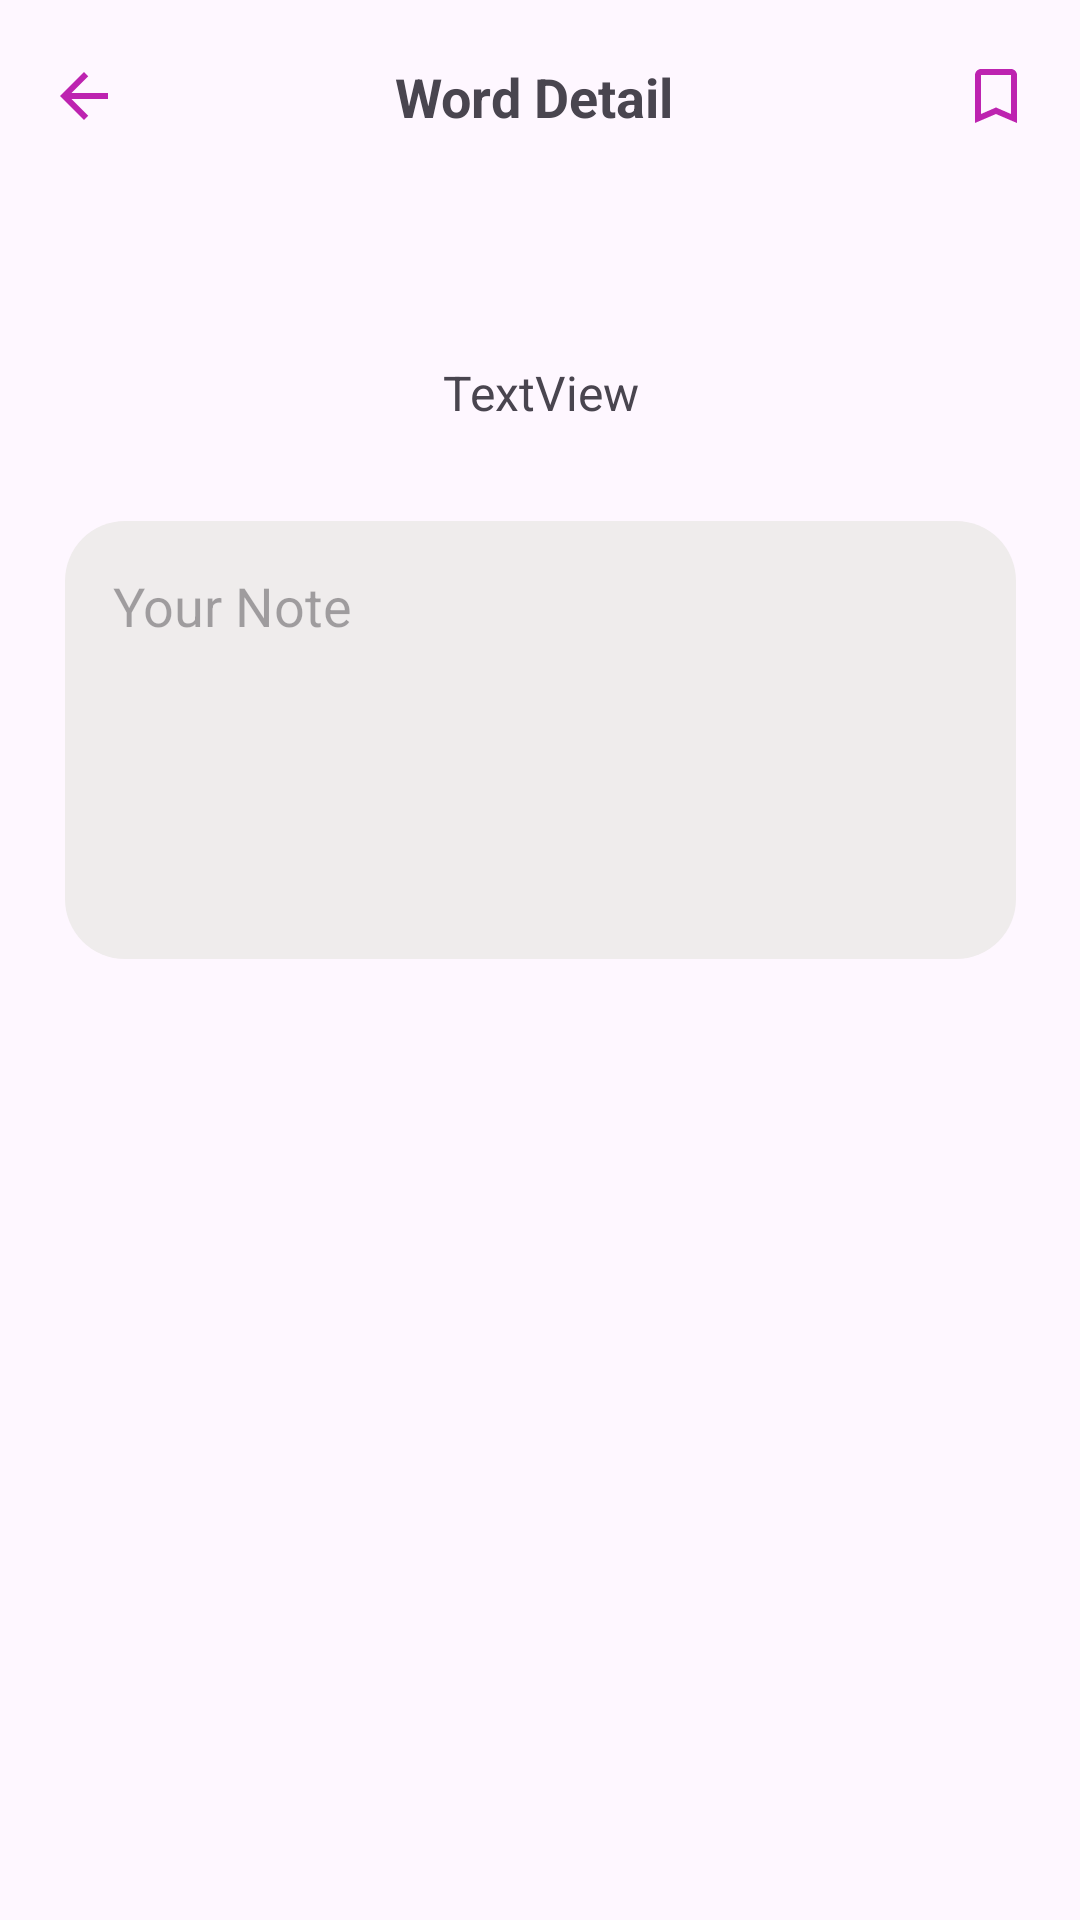

Screen size 1080x1920. Icon name, then its box in pixels as (x1, y1, x2, y2):
arrow back: (60, 72, 108, 120)
bookmark border: (975, 69, 1017, 123)
